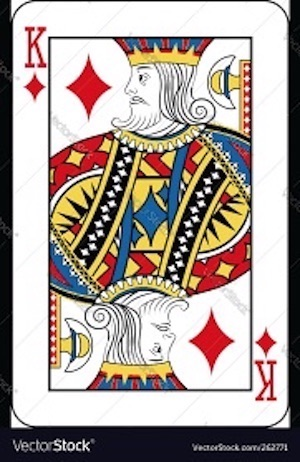KingOfDiamonds: (11, 4, 290, 427)
